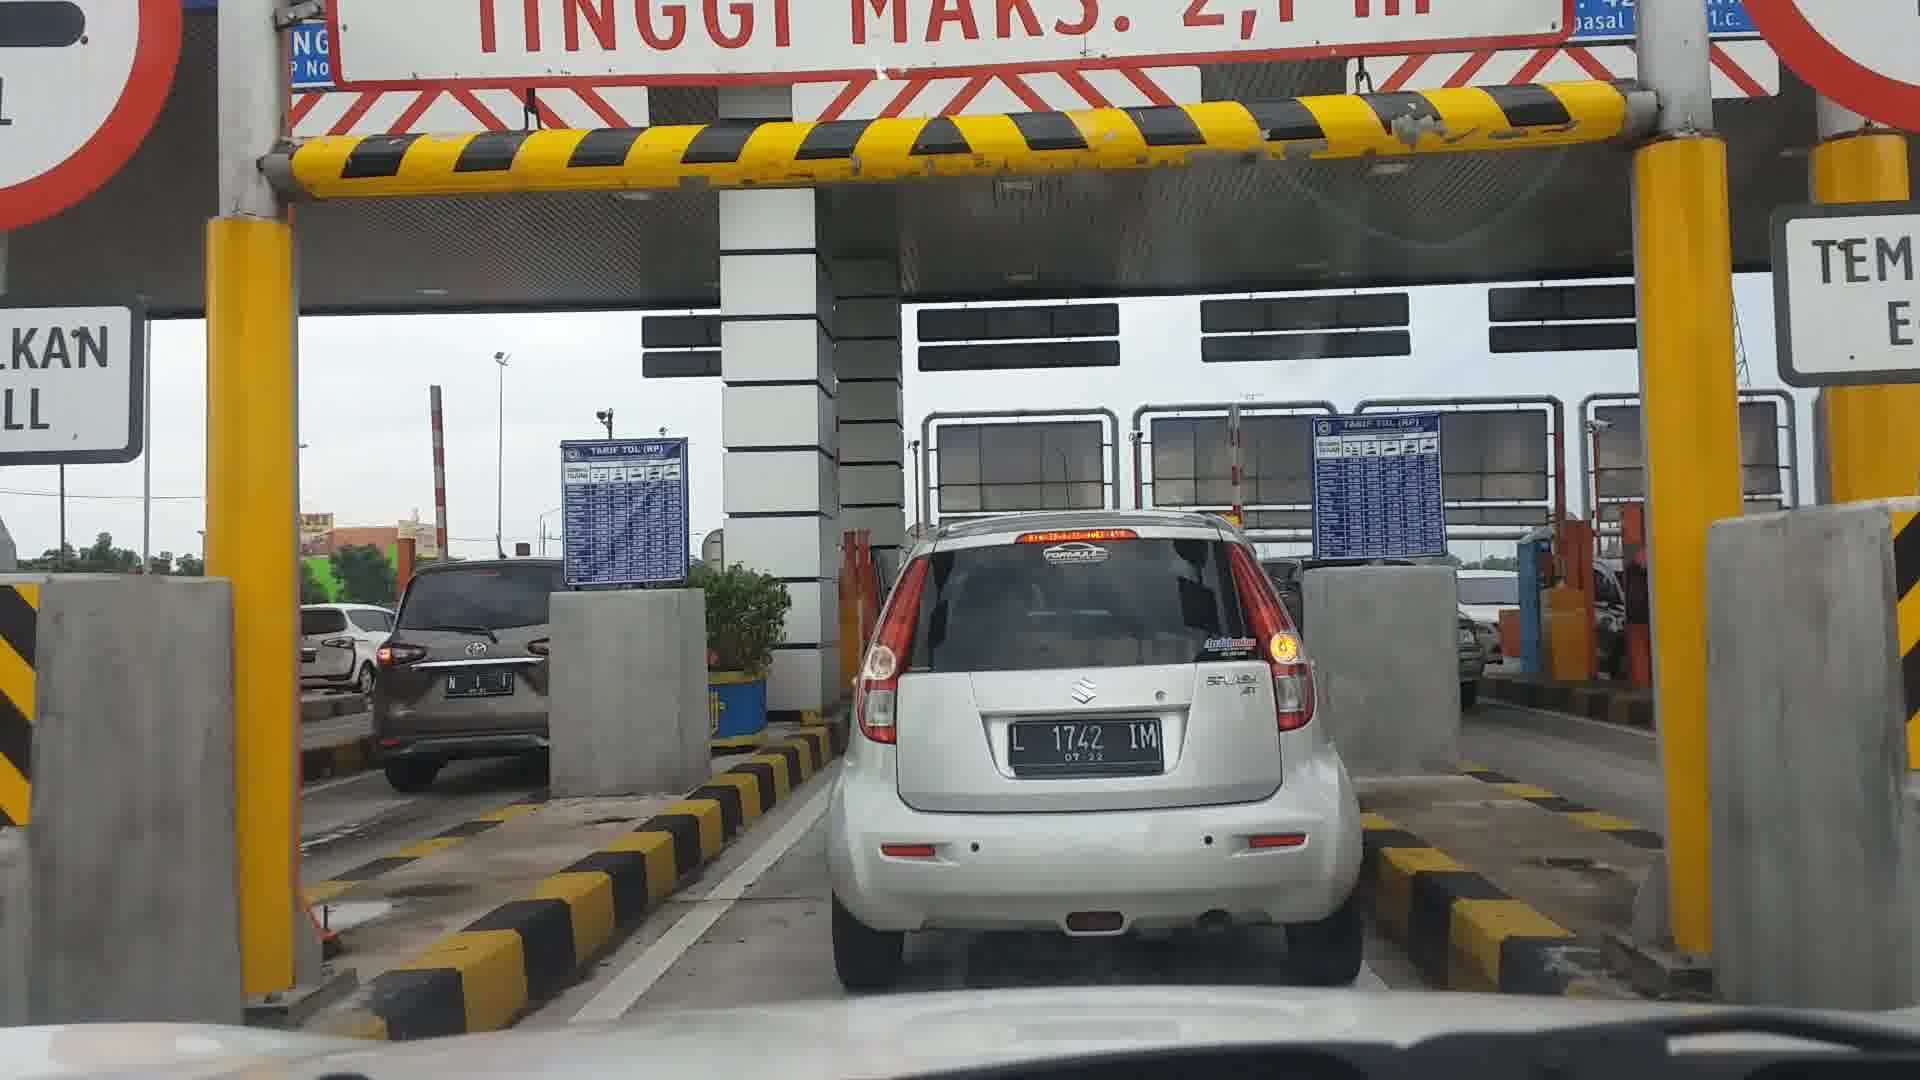plate_positive: (1007, 719, 1162, 775)
